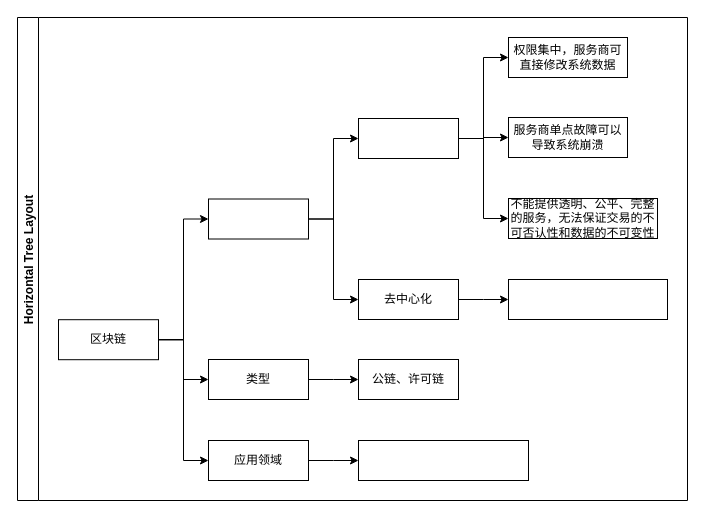
The diagram is 705 pixels wide and 518 high, and some of its shapes have lost their labels. Each missing label, with the box of its shape:
中心化: (358, 118, 458, 158)
中心化/去中心化: (208, 198, 308, 239)
物联网、医疗保健、金融、供应链管理、会计结算、智能交易、物流、制造、能源、机器人: (358, 440, 528, 480)
解决了匿名用户的相互信任、操作透明、数据完整性等问题: (508, 278, 668, 320)
